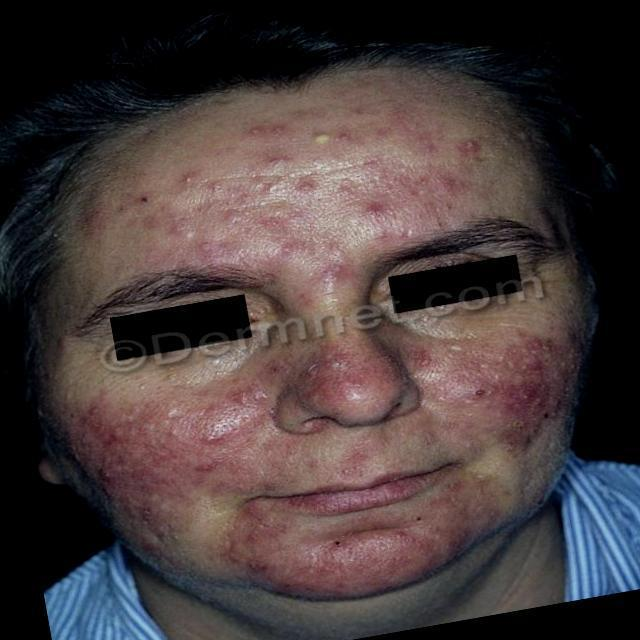skinredness: (69, 111, 563, 596)
